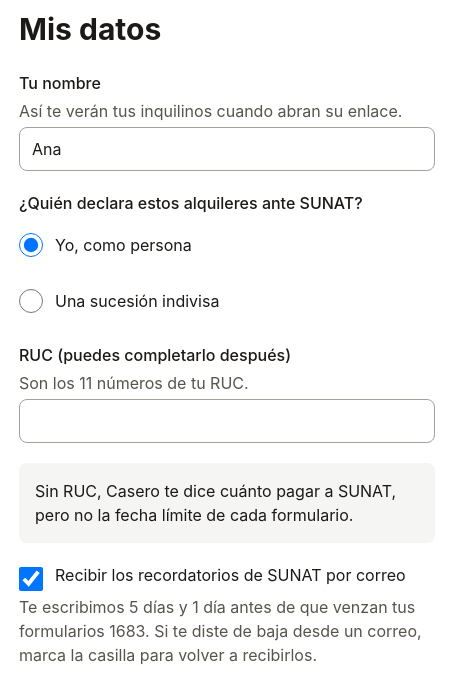
Scenario: profile page › explains that an estate needs its own account
The image size is (452, 674).
Click the radio button labelled "Una sucesión indivisa".
click(31, 301)  # box [19,289,43,313]
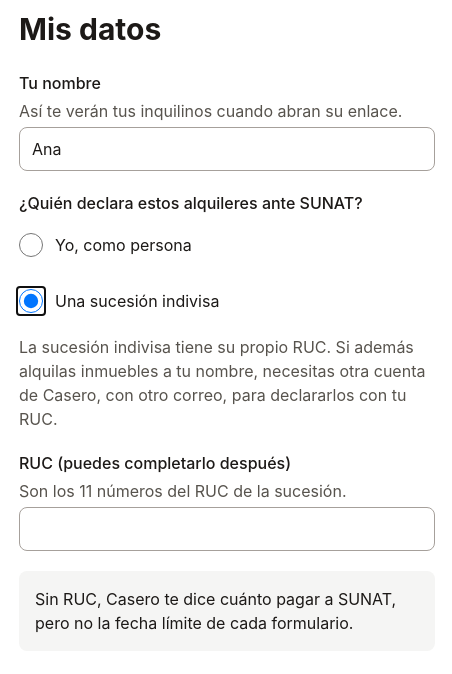
Expected: the text "necesitas otra cuenta de Casero" is shown, [19,337,425,429]
Expected: the text "Son los 11 números del RUC de la sucesión." is shown, [19,481,346,501]
